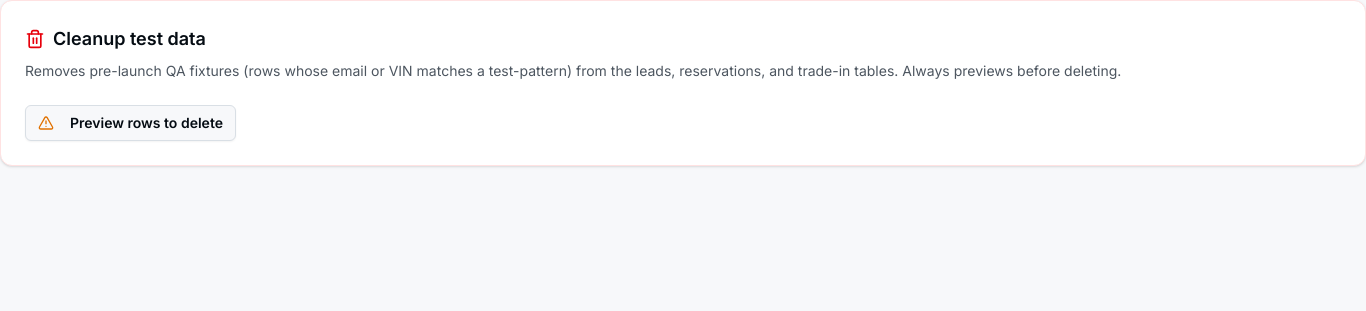
Test: CleanupTestDataCard › executes the delete and shows the result count
This screenshot has width=1366, height=311.
Click the button "Preview rows to delete".
click(130, 123)  # box [25,105,236,141]
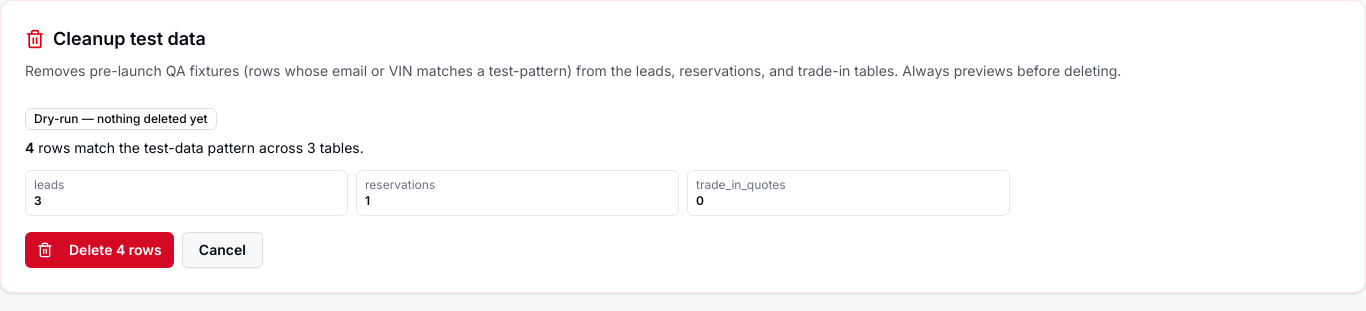
Click the button "Delete 4 rows".
click(99, 250)  # box [25,232,174,268]
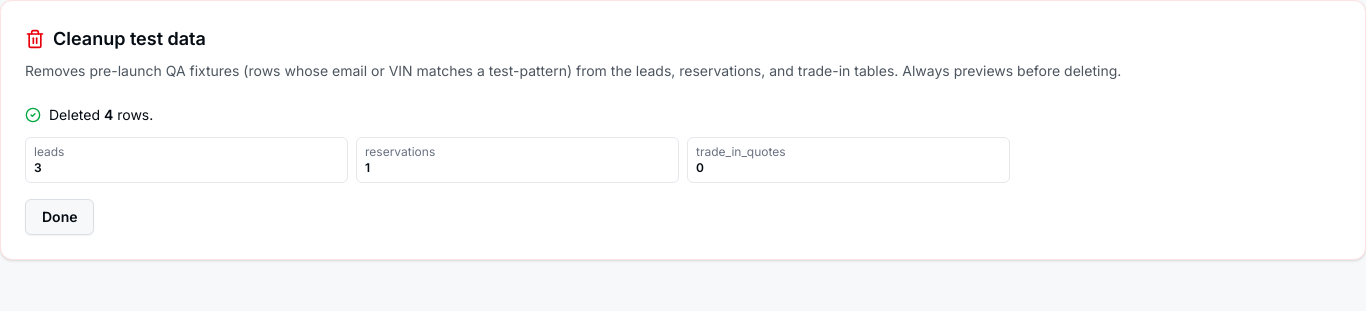
Expected: the text "Deleted 4 rows." is shown, [49,105,153,125]
Expected: the button "Done" is shown, [25,199,94,235]
